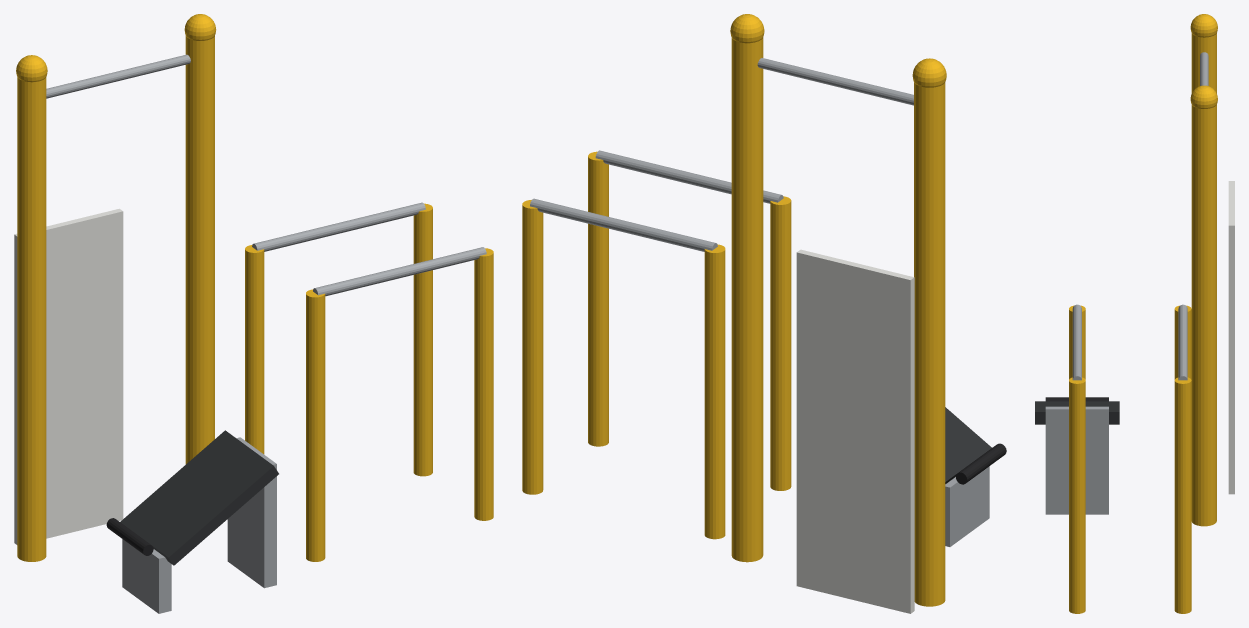
The picture shows the model from 3 angles, left to right: view 1: azimuth 30°, elevation 25°; view 2: azimuth 150°, elevation 25°; view 3: azimuth 270°, elevation 25°; orthographic projection. The views are drawn at different scales.
Parts seen in each view (by area): view 1: baseOffset=0;depth=1;height=2.2;material=steel_dark;power=;s (×5); view 2: baseOffset=0;depth=1;height=2.2;material=steel_dark;power=;s (×5); view 3: baseOffset=0;depth=1;height=2.2;material=steel_dark;power=;s (×4).
Part boxes in pixels (<box>): baseOffset=0;depth=1;height=2.2;material=steel_dark;power=;s (×5): <box>14,14,493,613</box>; baseOffset=0;depth=1;height=2.2;material=steel_dark;power=;s (×5): <box>522,14,1006,613</box>; baseOffset=0;depth=1;height=2.2;material=steel_dark;power=;s (×4): <box>1035,14,1234,613</box>.
Size of the model in its own units: 1.9 by 0.945 by 2.27.
